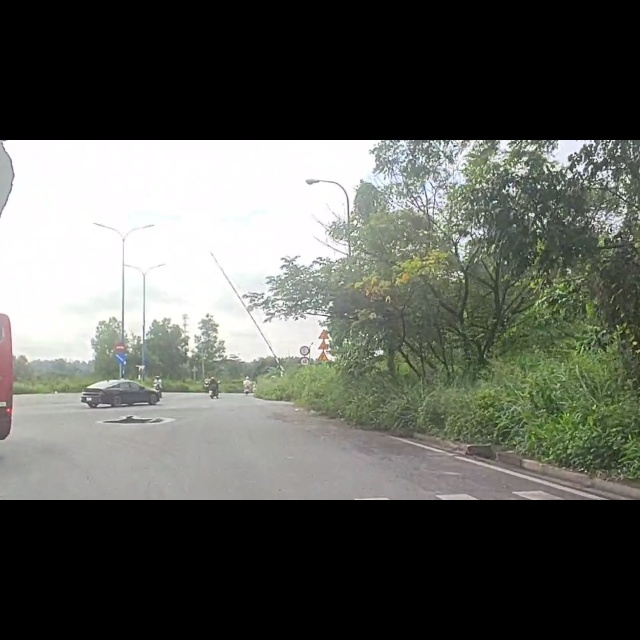bien_hieu_lenh: (317, 372, 330, 396), (113, 379, 127, 398), (115, 359, 126, 378), (299, 385, 311, 401)
